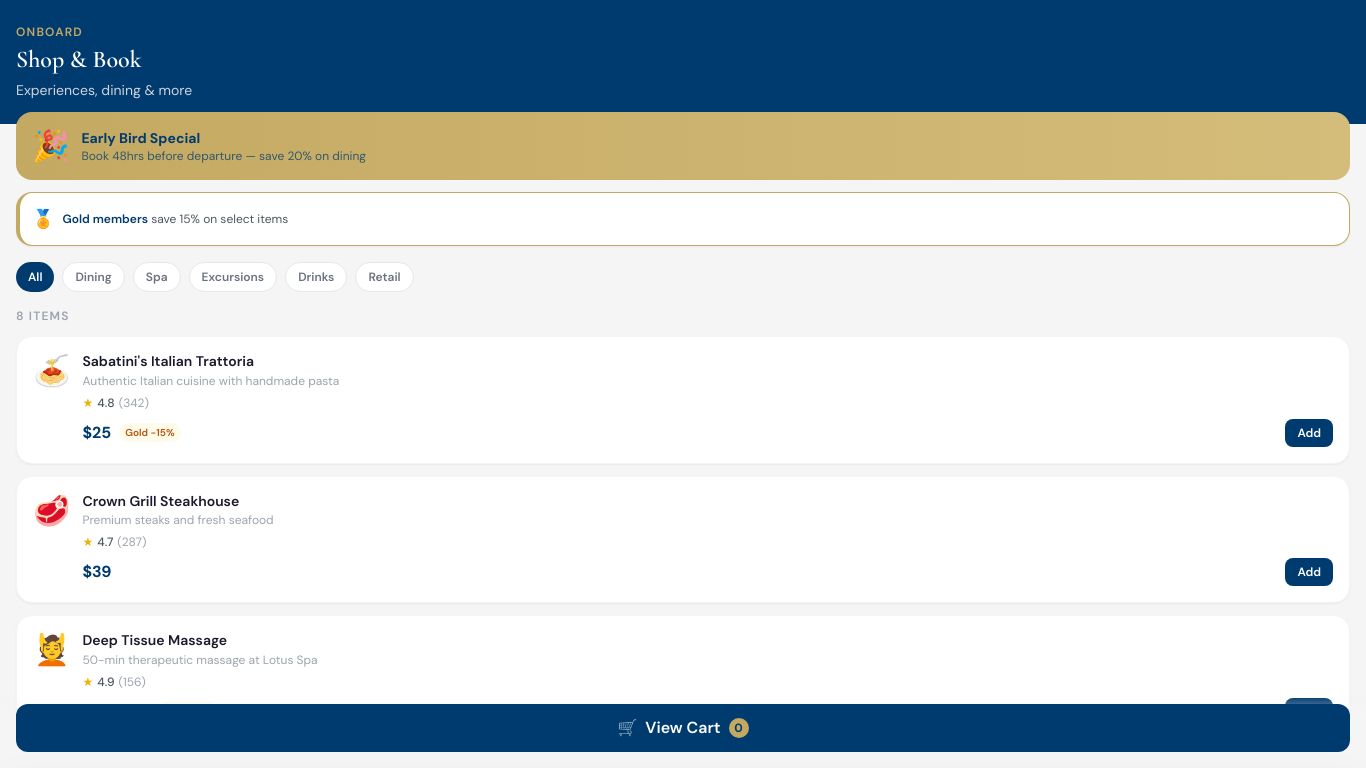
Test case: CommercePage › adds item to cart and updates cart count
The image size is (1366, 768).
expect the button with aria-label "view cart with 0 items" is shown: met, box [16, 704, 1350, 752]
Click the button "Add" in the row of "25": (1309, 432) [1285, 418, 1333, 446]
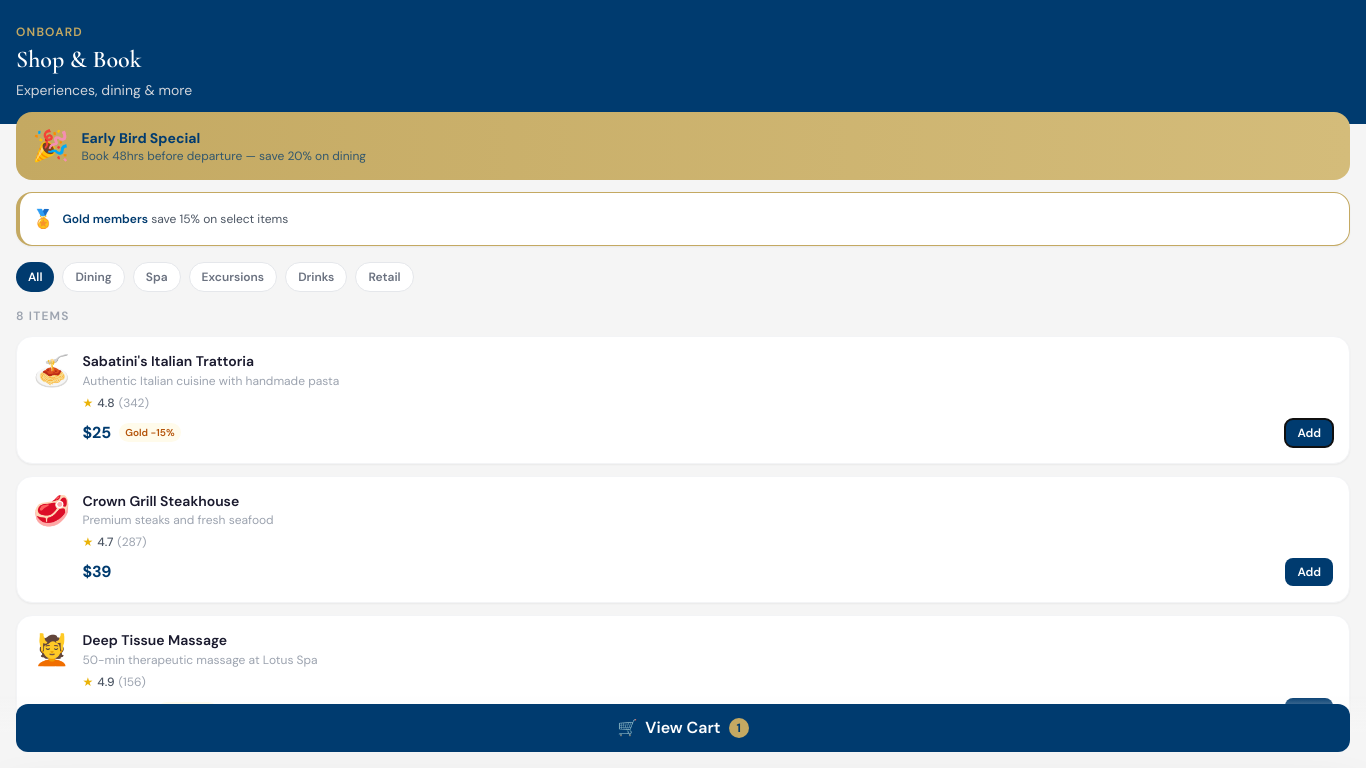
expect the button with aria-label "view cart with 1 items" is shown: met, box [16, 704, 1350, 752]
